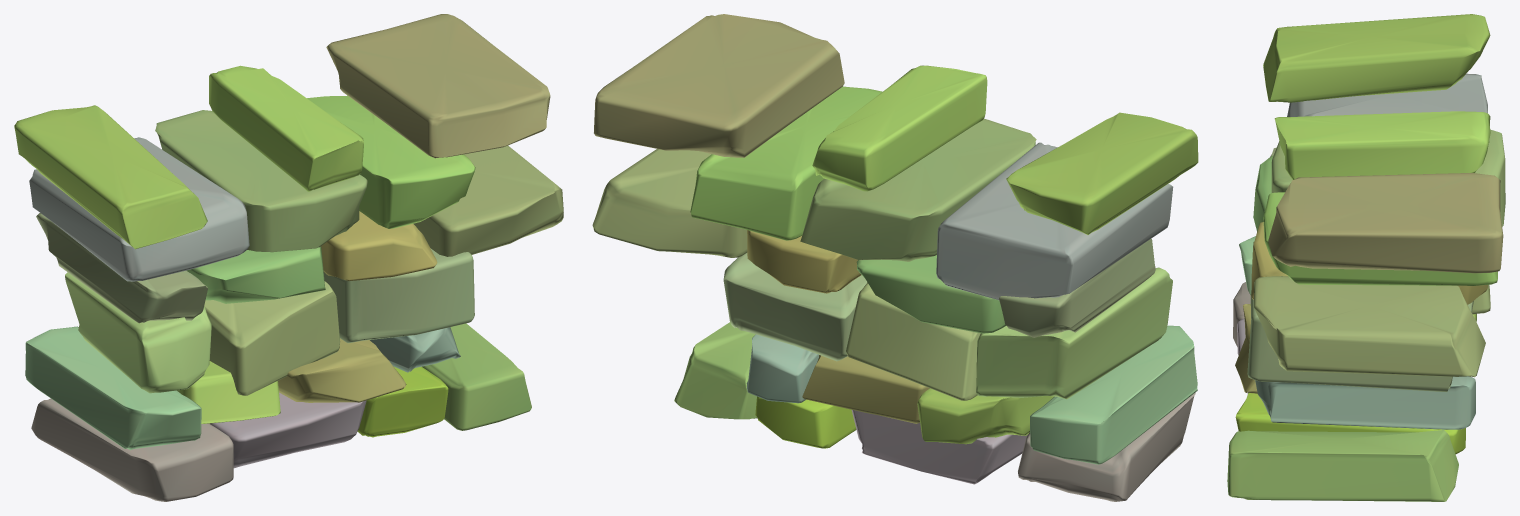
Rendered from SM_Scar_D.glb.
The picture shows the model from 3 angles, left to right: view 1: azimuth 30°, elevation 25°; view 2: azimuth 150°, elevation 25°; view 3: azimuth 270°, elevation 25°; orthographic projection. The views are drawn at different scales.
Parts seen in each view (by area): view 1: SM_Scar_D; view 2: SM_Scar_D; view 3: SM_Scar_D.
Boxes of the visible parts, bbox=[...] form: SM_Scar_D: bbox=[14, 14, 563, 501]; SM_Scar_D: bbox=[592, 14, 1198, 501]; SM_Scar_D: bbox=[1227, 14, 1505, 501].
Size of the model in its own units: 6.95 by 4.32 by 3.56.
